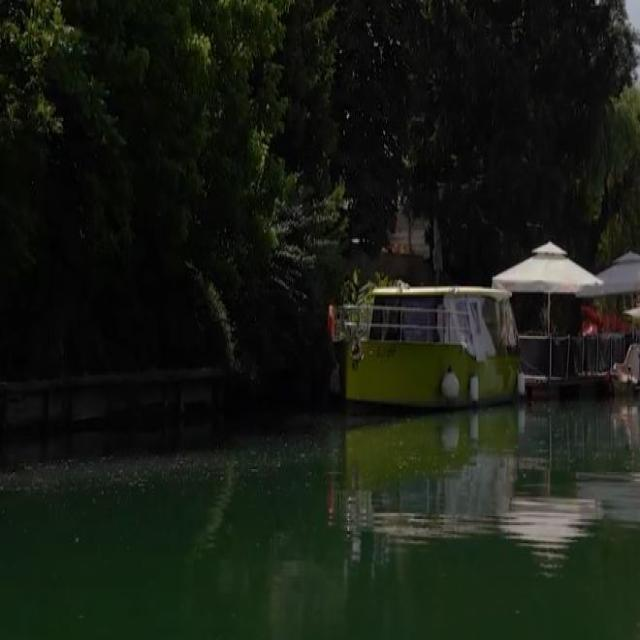boat: (327, 277, 527, 414)
